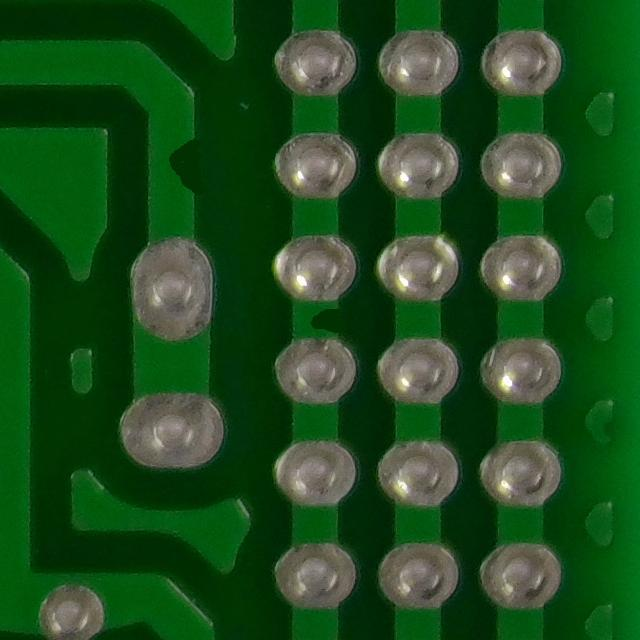mouse_bite: (281, 293, 360, 348)
